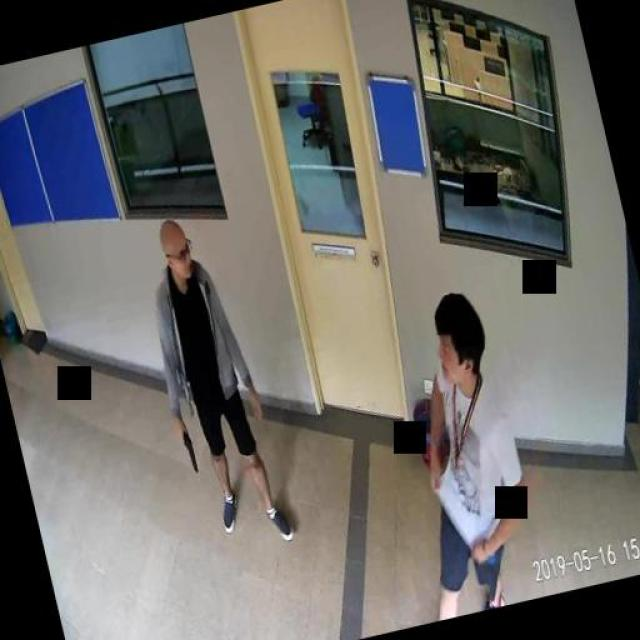gun: (176, 426, 198, 474)
